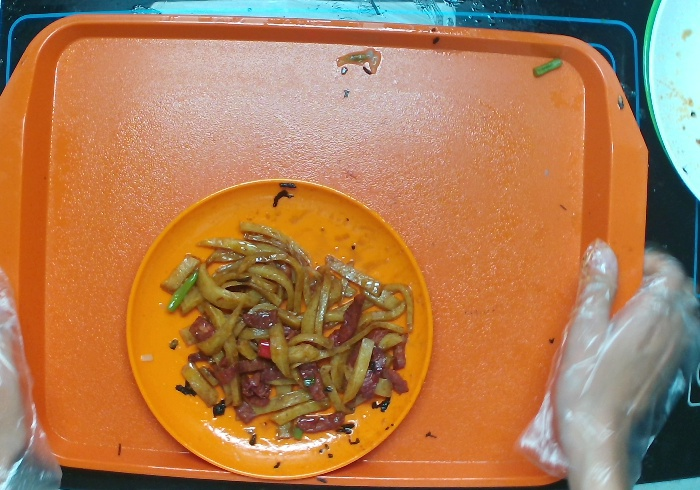HZYJPL-Ju_Huang_Yuan_Pan: (118, 180, 430, 490)
